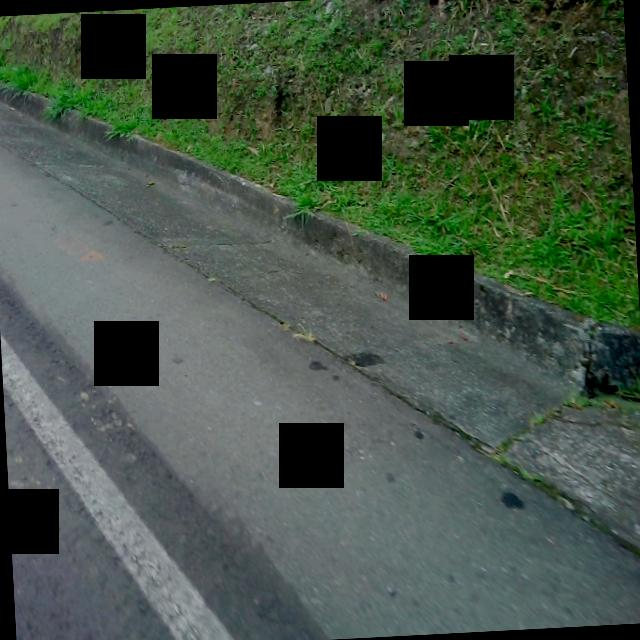DITCH: (0, 44, 640, 640), (0, 167, 640, 640)
